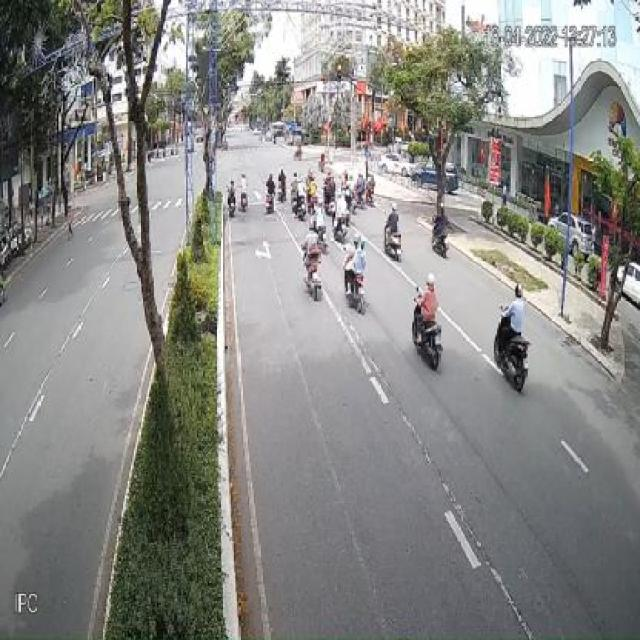motorbike: (493, 282, 531, 396), (412, 280, 444, 374), (344, 237, 368, 317), (302, 240, 321, 304), (381, 204, 400, 261), (431, 207, 450, 258), (267, 173, 277, 215), (226, 178, 236, 218), (239, 177, 249, 216)
